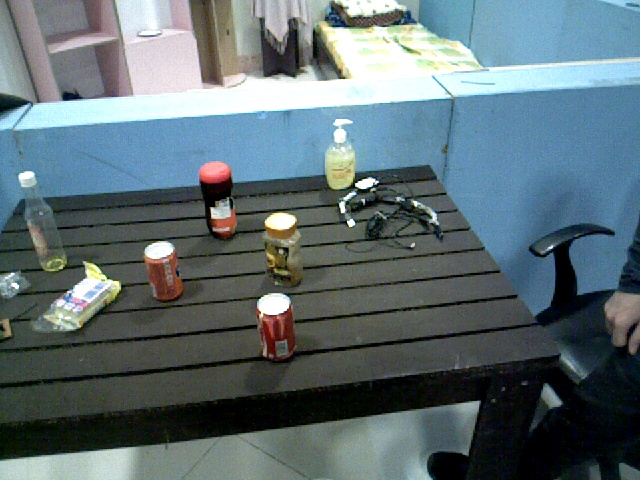coca: (260, 292, 295, 365)
coffee: (264, 210, 303, 292)
cream: (201, 162, 239, 240)
fanta: (146, 240, 185, 304)
